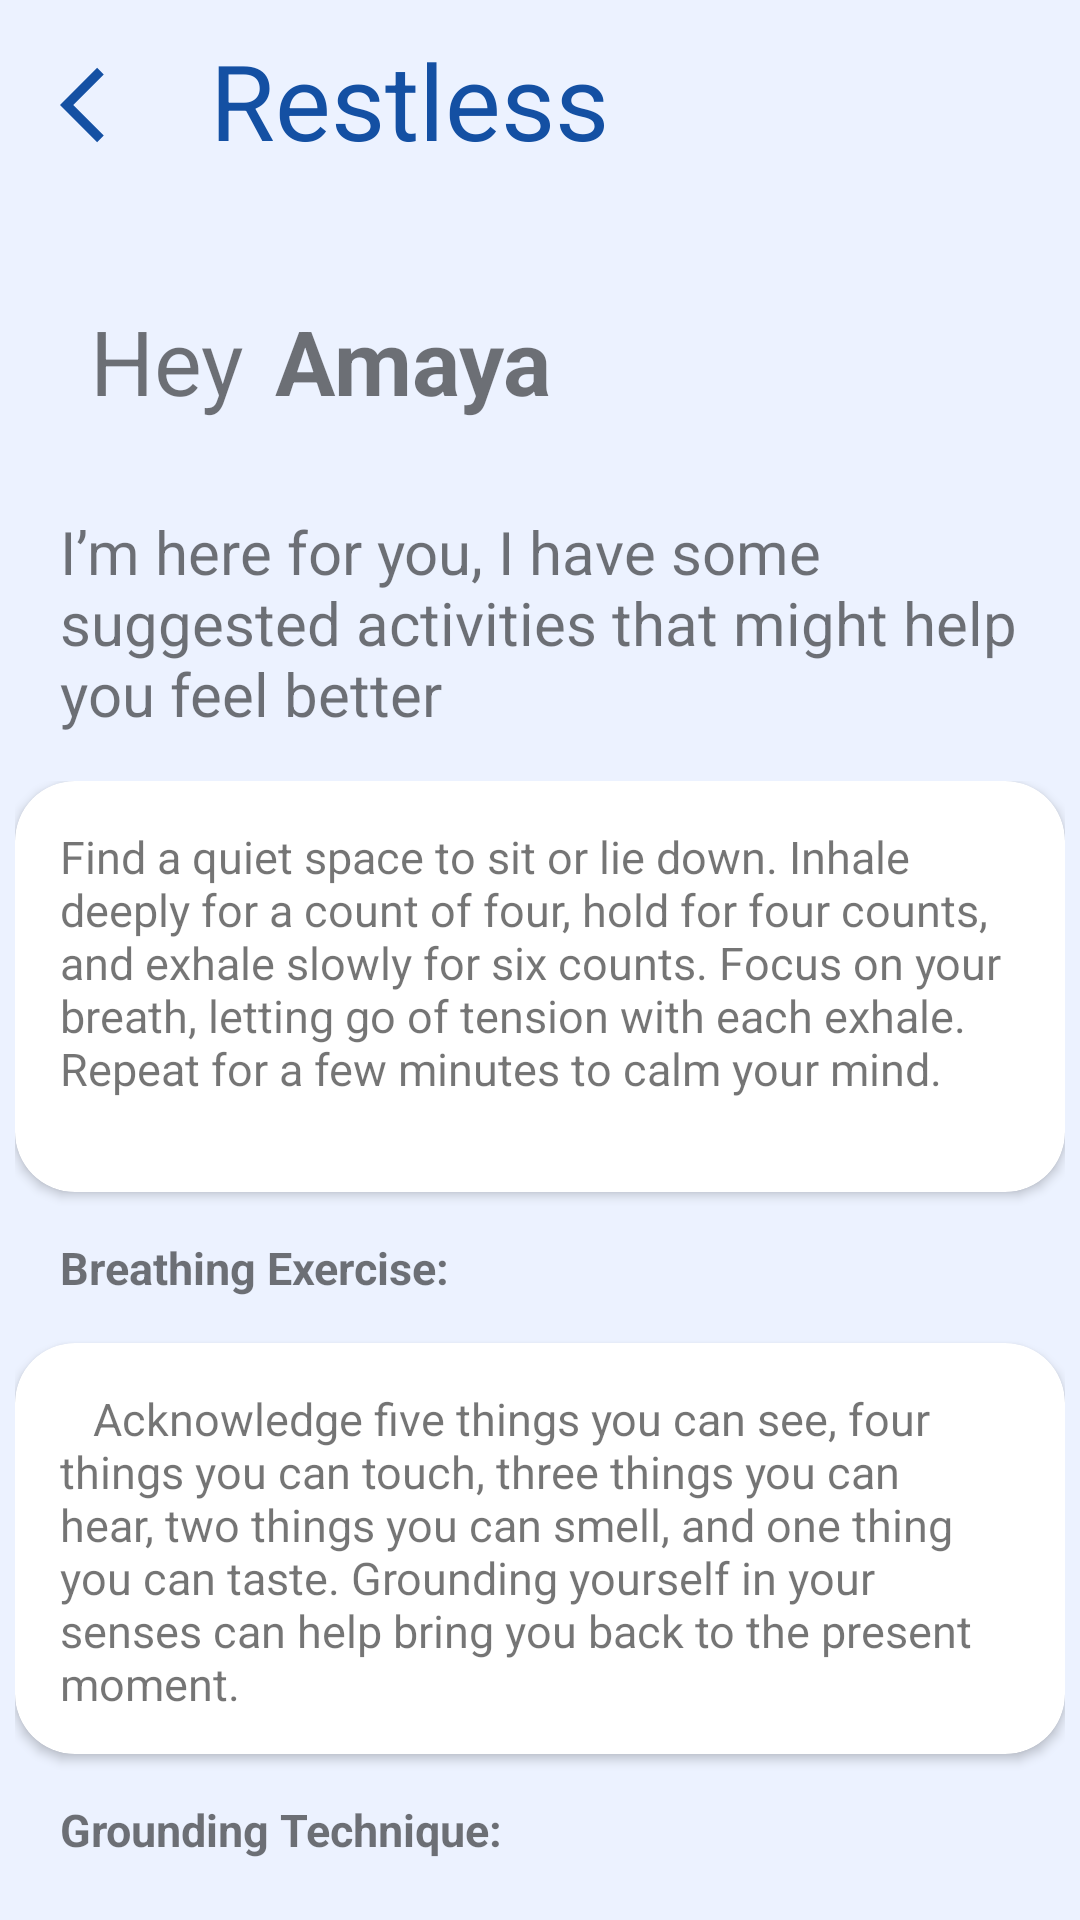

Icons on this 1080*1920 Android screen, each with its box as region(x1, y1, x2, y2):
back arrow: region(60, 68, 104, 142)
